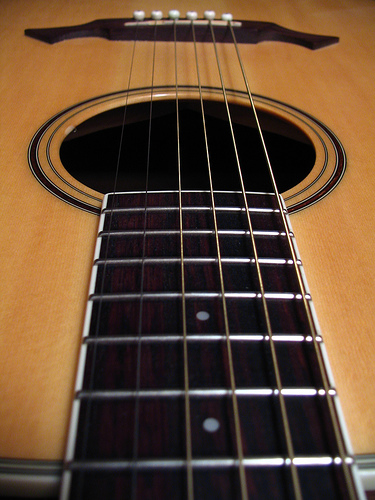guitar: (1, 1, 375, 500)
